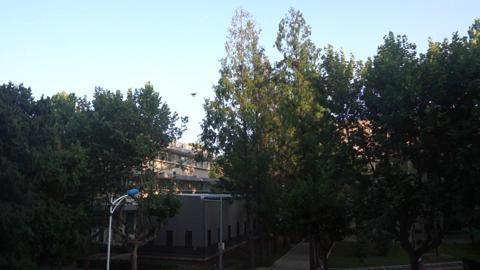UAV: (189, 92, 199, 98)
